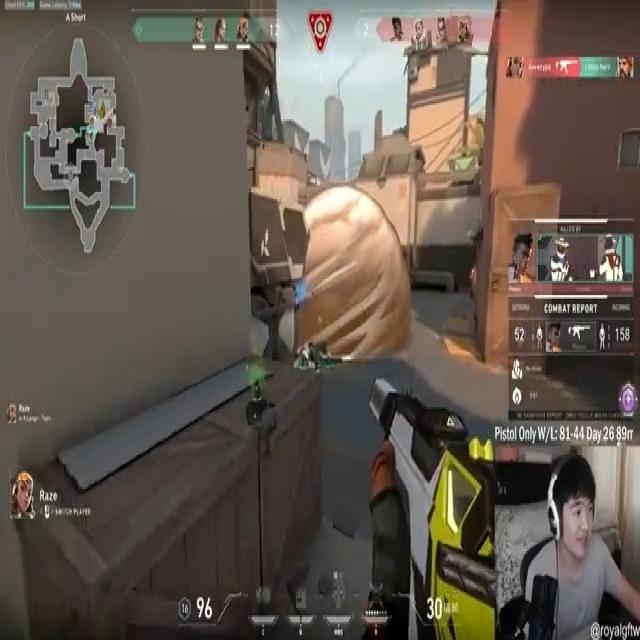smoke: (301, 184, 413, 358)
